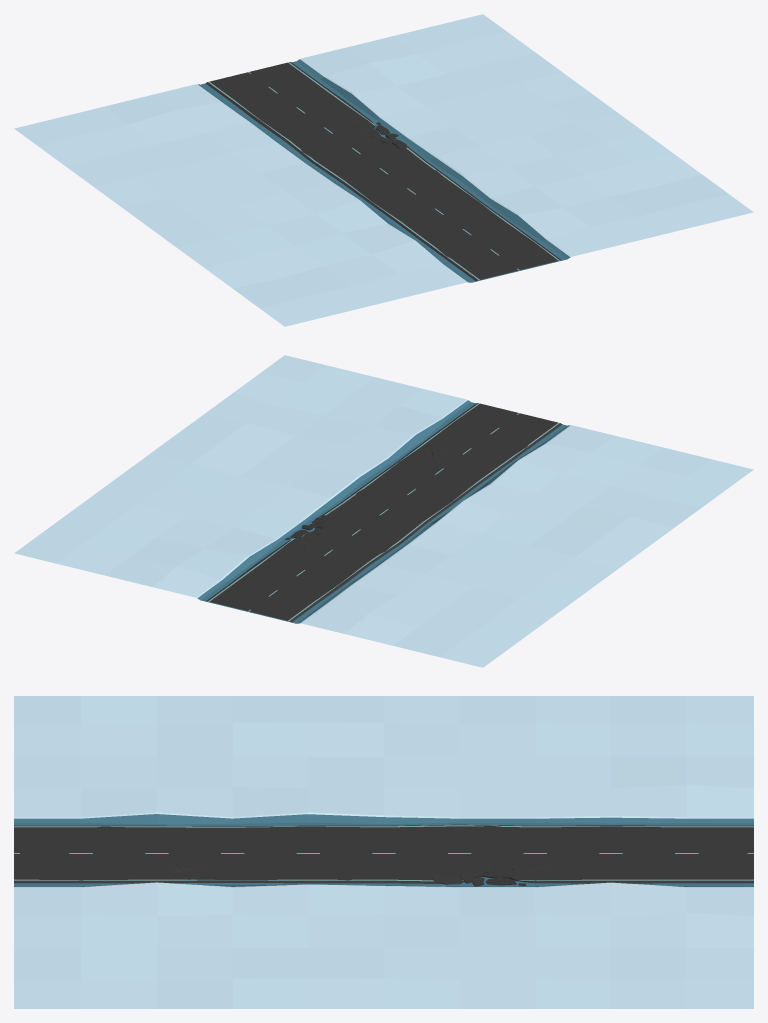
Rendered from model_road_snow_straight_02.fbx.
3 renders of one model, top to bottom at view 1: azimuth 30°, elevation 25°; view 2: azimuth 150°, elevation 25°; view 3: azimuth 270°, elevation 25°, orthographic. The views are drawn at different scales.
Parts seen in each view (by area): view 1: model_road_snow_straight_02; view 2: model_road_snow_straight_02; view 3: model_road_snow_straight_02.
Part boxes in pixels (x1,y1,x2,y2): model_road_snow_straight_02: (14, 14, 753, 326); model_road_snow_straight_02: (14, 355, 753, 667); model_road_snow_straight_02: (14, 696, 753, 1008).
Size of the model in its own units: 6000 by 68.27 by 6000.
1 material, 1 textured.
